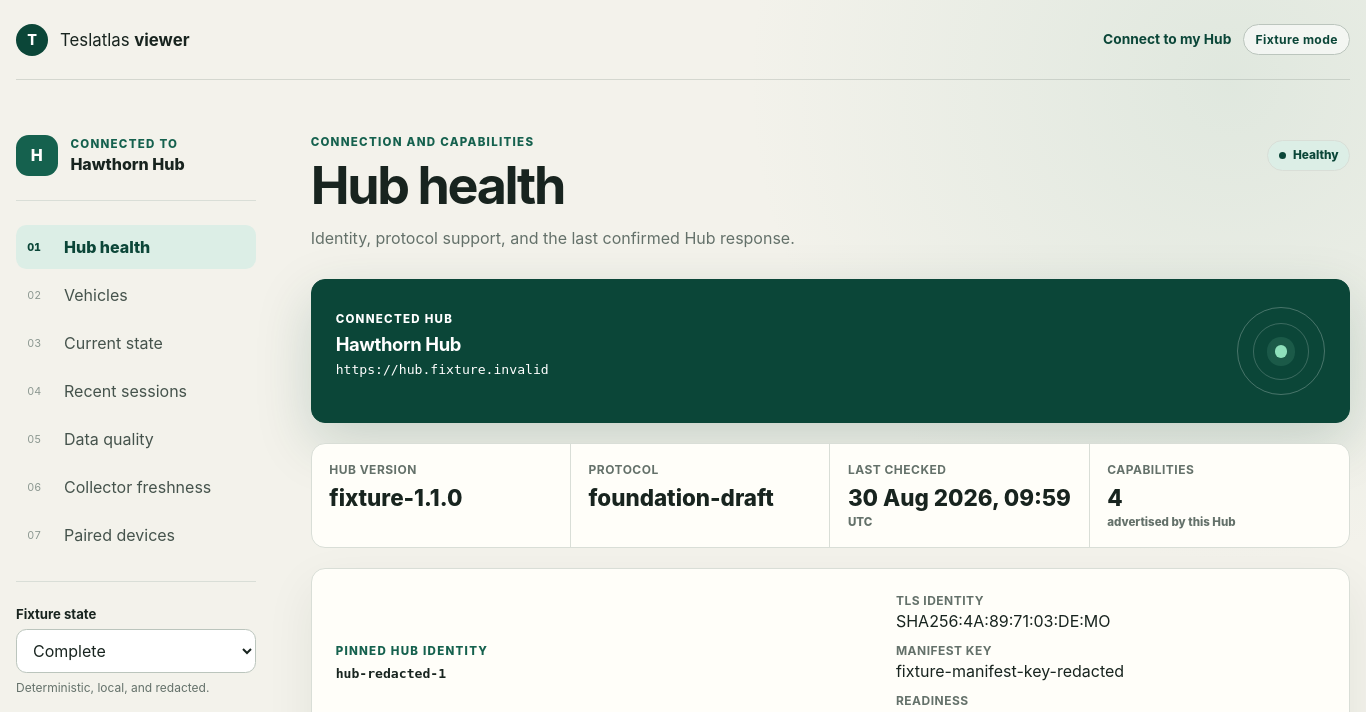
Test: reference views › keeps an all-empty page actionable when history has continuation
Step 1. Click the button "04 Recent sessions" → [136, 391], box [16, 369, 256, 413]
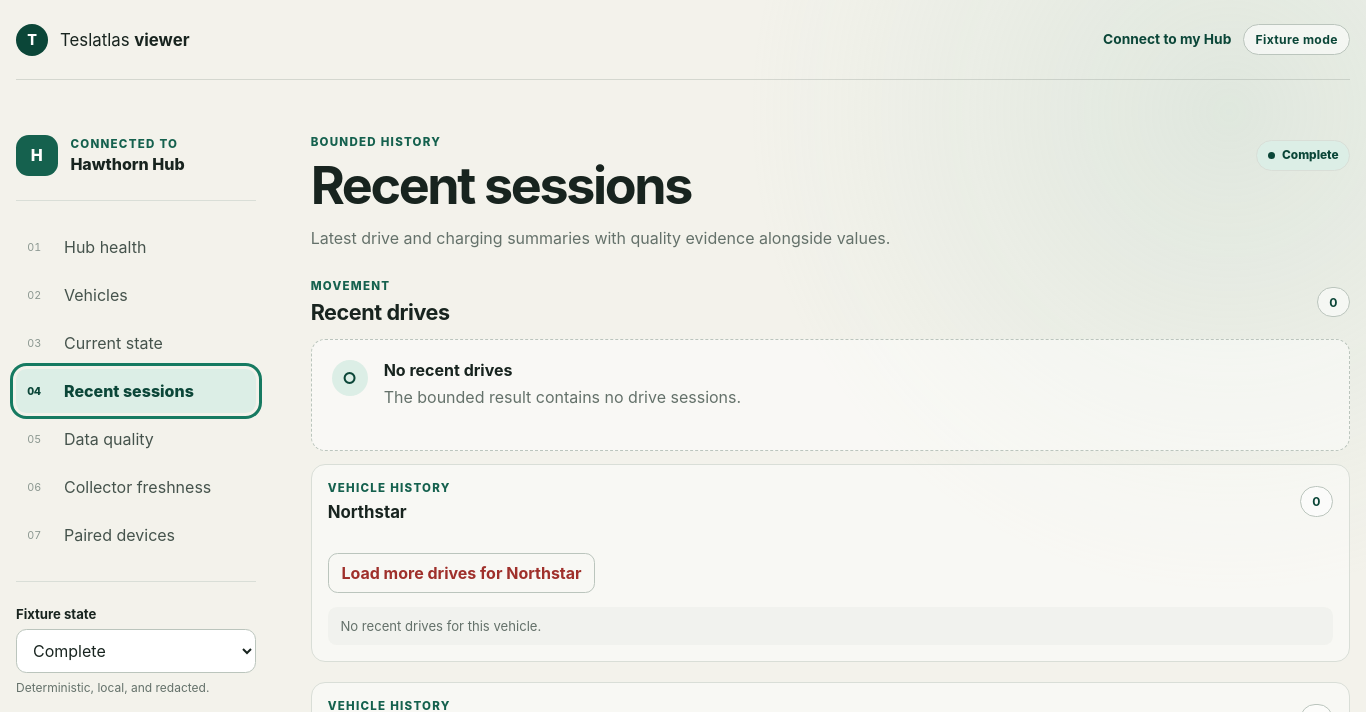
expect the element "Northstar" is shown: met, box [311, 464, 1350, 662]
expect the text "No recent drives for this vehicle." is shown: met, box [328, 607, 1333, 645]
Step 2. Click the button "Load more drives for Northstar" → [462, 573], box [328, 553, 595, 593]
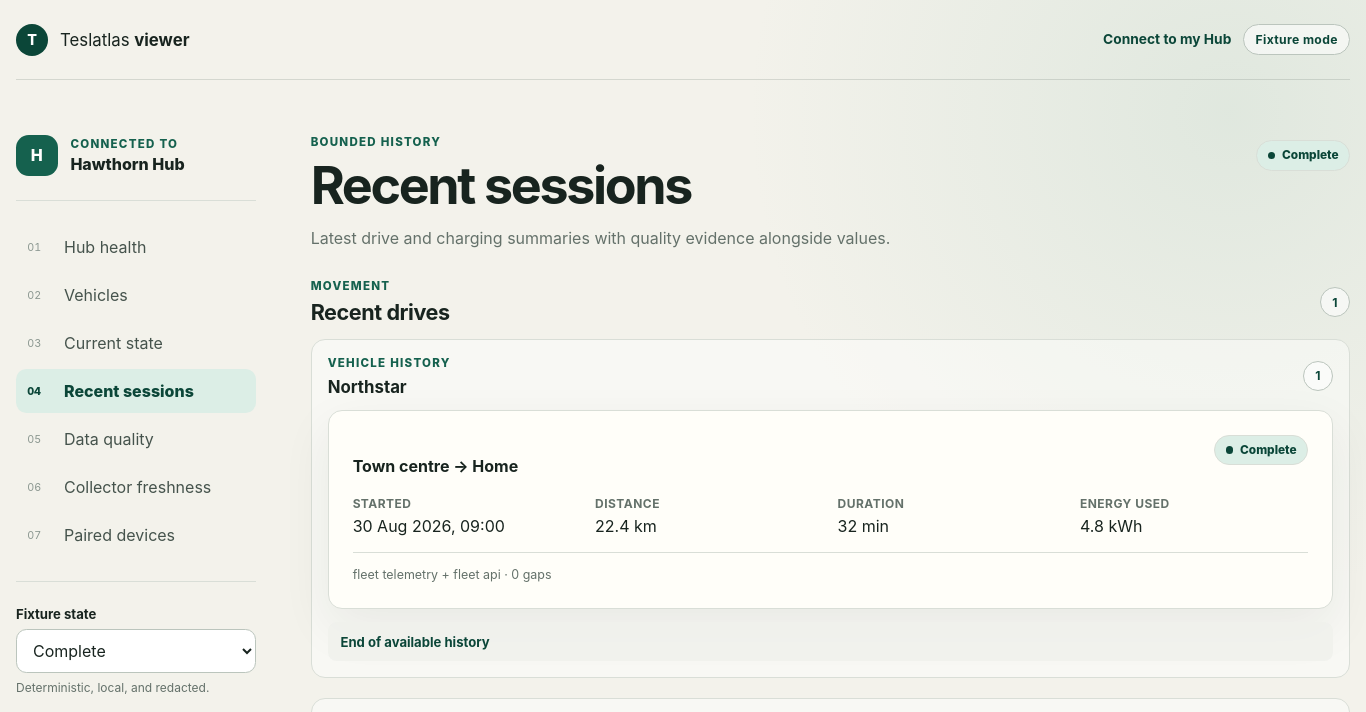
expect the text "No recent drives for this vehicle." is gone: met
expect the text "End of available history" is shown: met, box [328, 622, 1333, 661]
